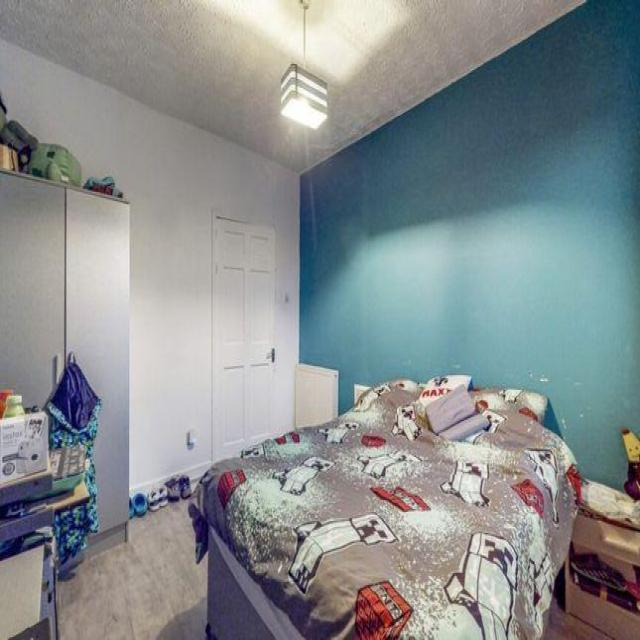Wall: (300, 0, 640, 487), (0, 39, 299, 487), (0, 0, 583, 172), (59, 501, 207, 639)
